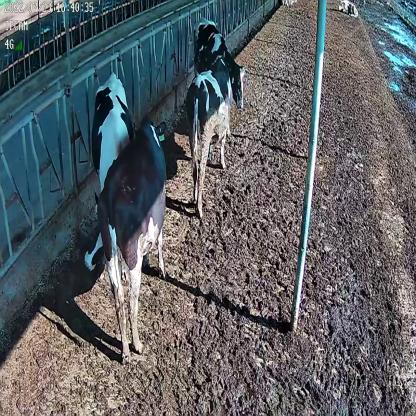cow: (96, 113, 168, 363), (83, 71, 136, 274), (185, 56, 233, 220), (194, 14, 247, 112), (337, 0, 359, 18)
